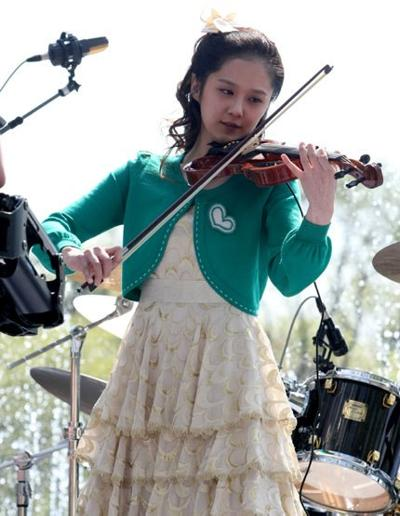person: (32, 20, 335, 516)
